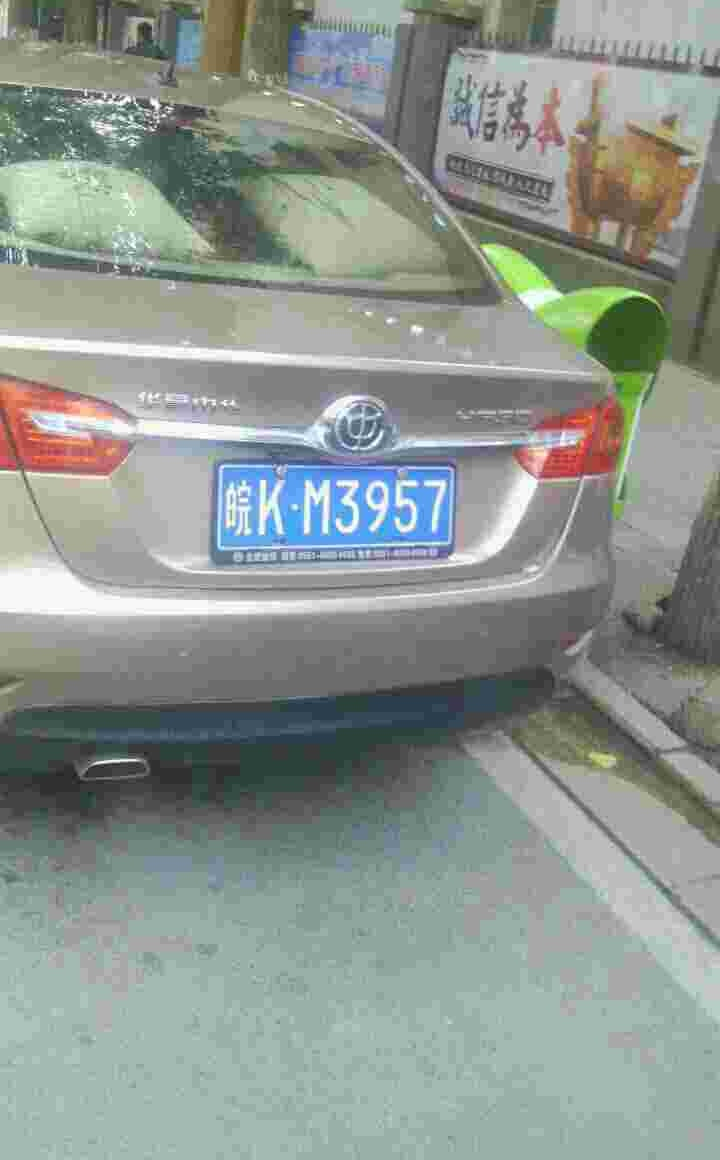plate: (222, 462, 464, 552)
